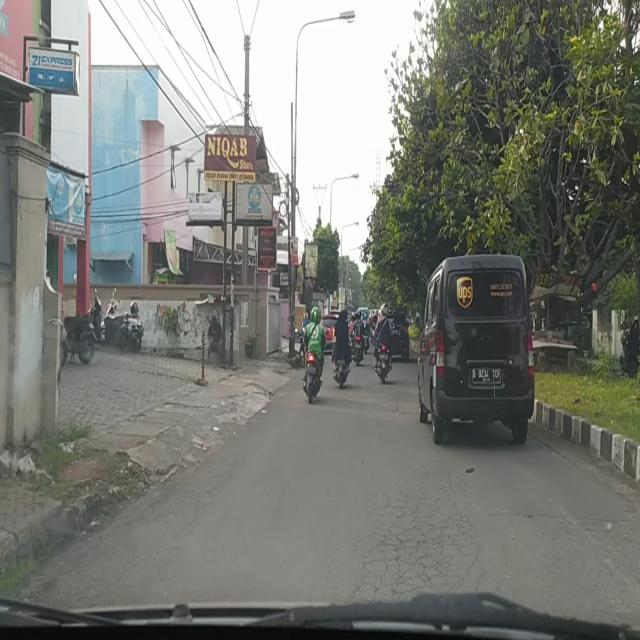Drain Hole: (356, 477, 480, 593)
